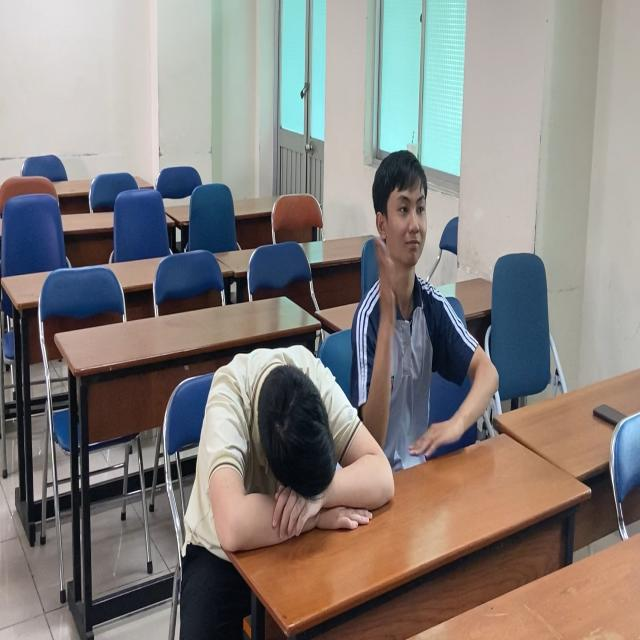raise_hand: (356, 148, 505, 467)
sleep: (182, 338, 385, 547)
